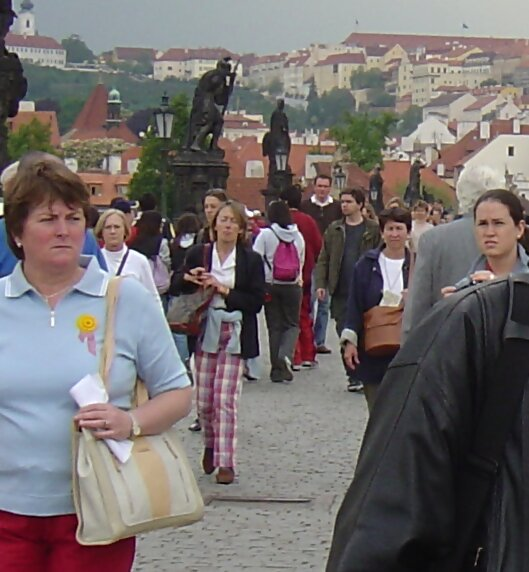person: (1, 151, 202, 572), (177, 205, 265, 490), (418, 163, 529, 325), (343, 204, 419, 413), (321, 186, 386, 394), (256, 199, 306, 383), (91, 207, 161, 305), (461, 192, 529, 284)
